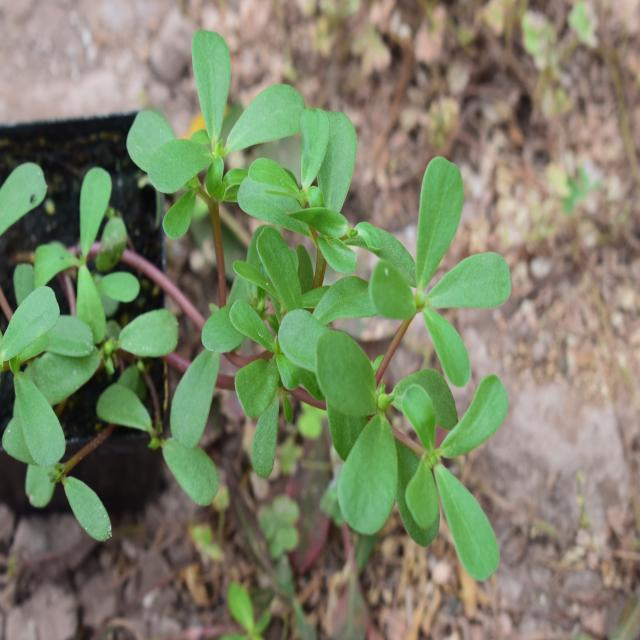purslane: (4, 31, 500, 557)
